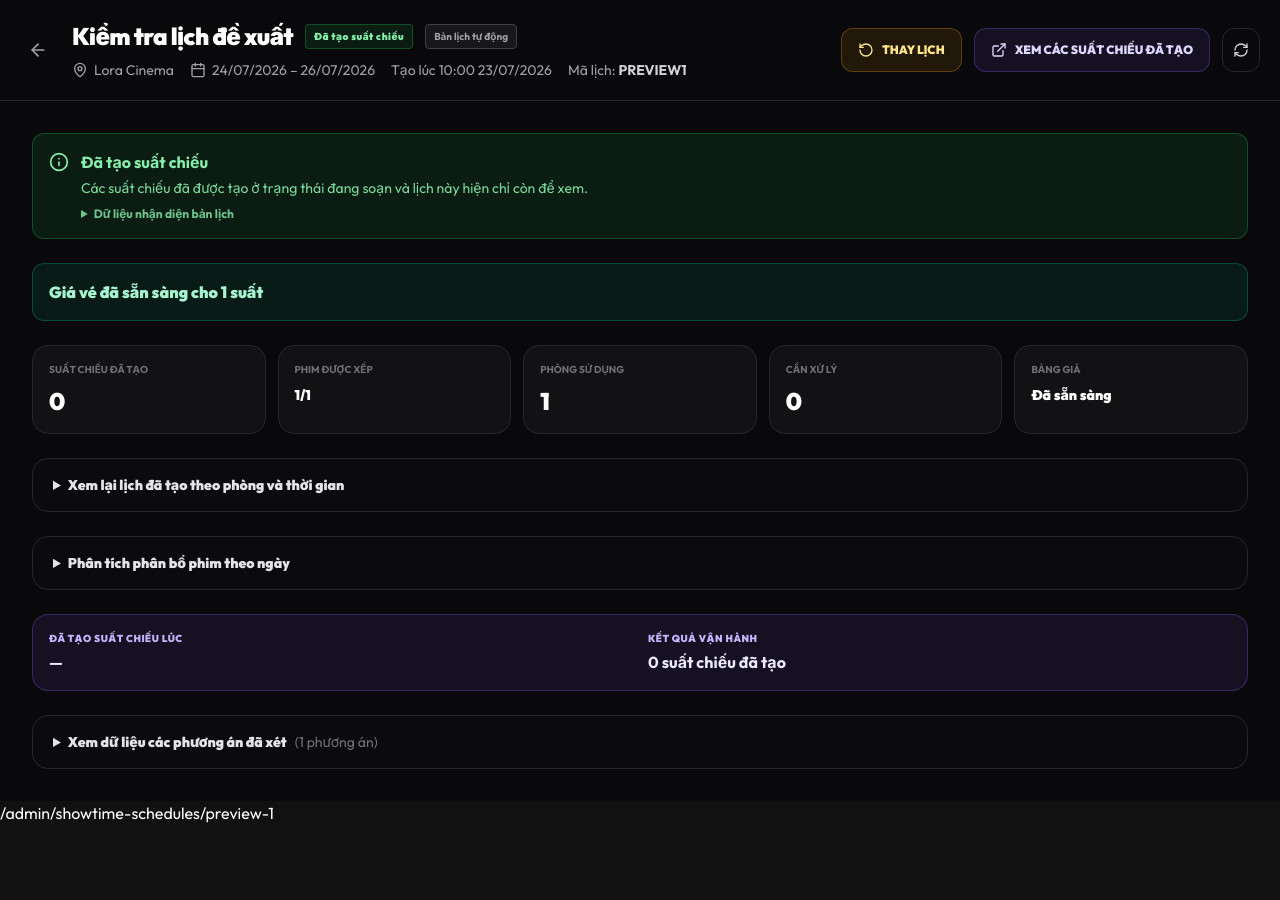
Test case: AdminAutoSchedulePreviewPage Milestone C › blocks replacement without changing any showtime when one batch item is no longer draft
The width and height of the screenshot is (1280, 900).
Click the button "Thay lịch": (901, 50) [841,28,962,72]
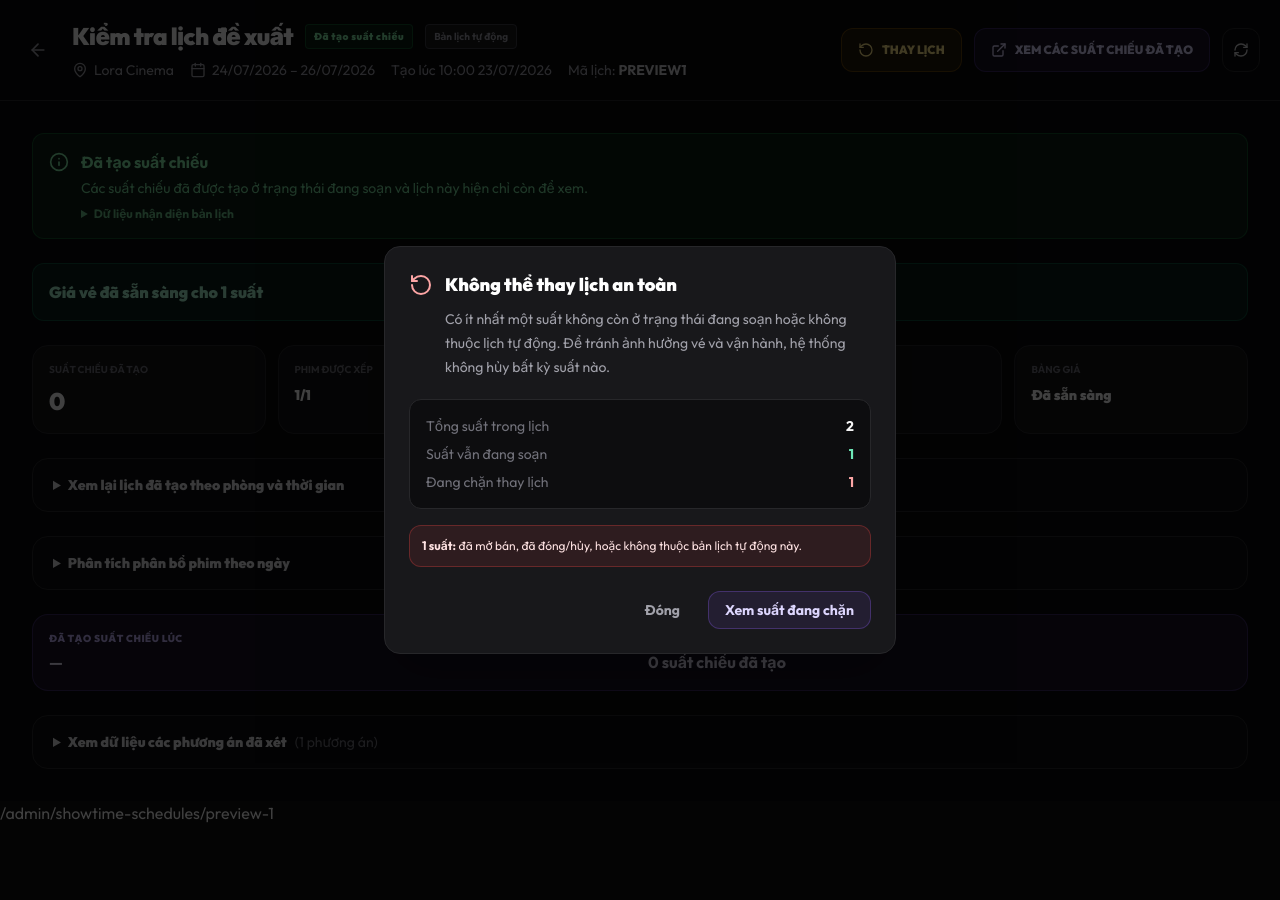
Expected: the dialog shows "Không thể thay lịch an toàn", [445,273,677,296]
Expected: the dialog shows "không hủy bất kỳ suất nào", [445,310,847,376]
